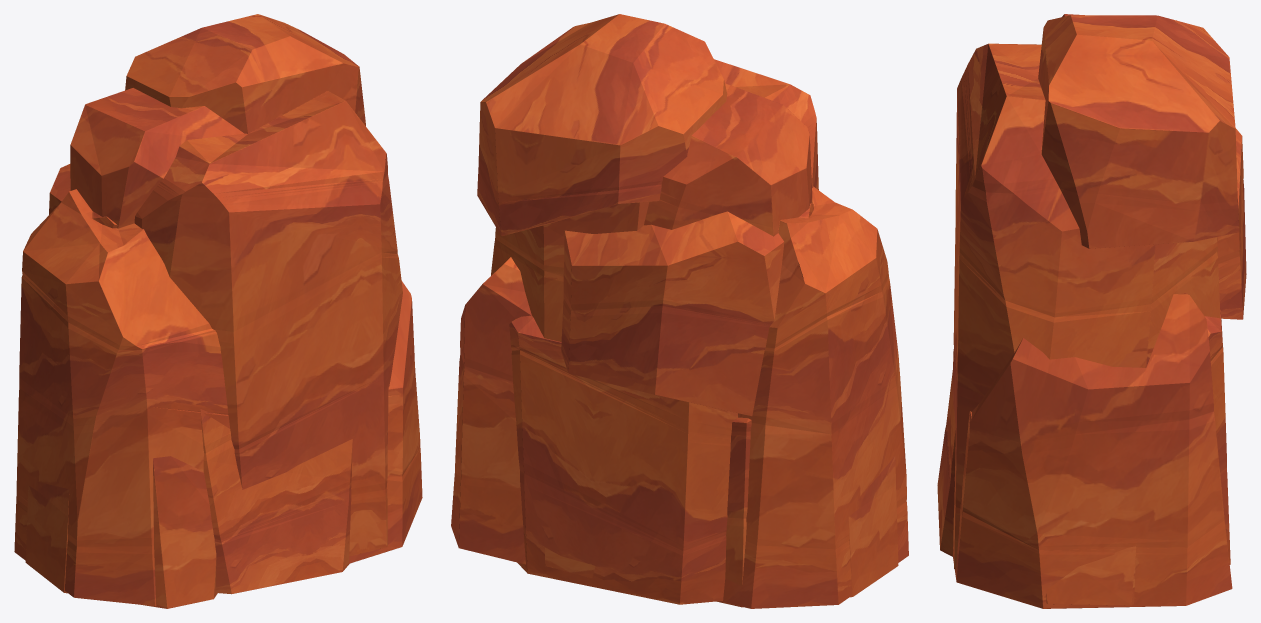
The model's file is CanyonWall_Irregular_v3.fbx.
3 renders of one model, left to right at view 1: azimuth 30°, elevation 25°; view 2: azimuth 150°, elevation 25°; view 3: azimuth 270°, elevation 25°, orthographic. The views are drawn at different scales.
Parts seen in each view (by area): view 1: CanyonWall_B_v3, CanyonWall_A_v3, CanyonWall_Corner_v3; view 2: CanyonWall_A_v3, CanyonWall_Corner_v3, CanyonWall_B_v3; view 3: CanyonWall_B_v3, CanyonWall_A_v3, CanyonWall_Corner_v3.
Boxes of the visible parts, box(x1,y1,x2,y2) form: CanyonWall_B_v3: box(25, 14, 402, 608); CanyonWall_A_v3: box(14, 88, 422, 606); CanyonWall_Corner_v3: box(49, 164, 352, 594); CanyonWall_A_v3: box(451, 83, 908, 608); CanyonWall_Corner_v3: box(509, 203, 813, 604); CanyonWall_B_v3: box(477, 14, 898, 607); CanyonWall_B_v3: box(952, 15, 1239, 605); CanyonWall_A_v3: box(952, 14, 1232, 608); CanyonWall_Corner_v3: box(937, 128, 1246, 564).
Bounding box in the file's own units: 32 × 41 × 22.
Materials: 3 (3 with a texture image).
